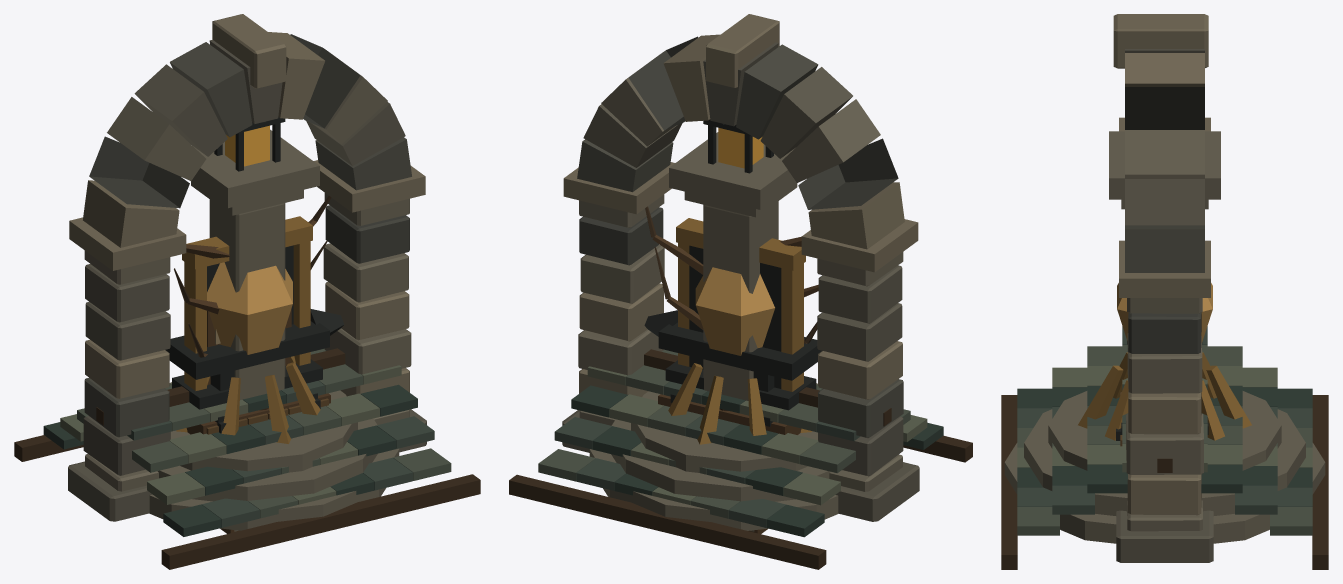
Rendered from waystation-kit.glb.
The picture shows the model from 3 angles, left to right: view 1: azimuth 30°, elevation 25°; view 2: azimuth 150°, elevation 25°; view 3: azimuth 270°, elevation 25°; orthographic projection. The views are drawn at different scales.
Parts seen in each view (by area): view 1: arch, canopy, waystone, pillar, anvil, mirror, lamp, tree, chest; view 2: arch, canopy, waystone, pillar, mirror, anvil, lamp, tree, chest; view 3: arch, canopy, waystone, pillar.
Part boxes in pixels (box(x1,y1,x2,y2)): arch: box(68, 14, 426, 521); canopy: box(14, 348, 480, 569); waystone: box(149, 262, 399, 530); pillar: box(191, 129, 319, 399); anvil: box(165, 309, 344, 410); mirror: box(182, 216, 312, 390); lamp: box(214, 117, 285, 171); tree: box(174, 196, 331, 357); chest: box(186, 393, 330, 434); arch: box(562, 14, 919, 521); canopy: box(509, 349, 972, 569); waystone: box(589, 267, 838, 530); pillar: box(669, 132, 797, 400); mirror: box(676, 218, 805, 391); anvil: box(644, 310, 822, 410); lamp: box(703, 119, 773, 173); tree: box(645, 206, 818, 343); chest: box(658, 394, 801, 434); arch: box(1113, 14, 1213, 562); canopy: box(1001, 326, 1328, 569); waystone: box(1004, 283, 1325, 543); pillar: box(1109, 131, 1220, 209).
Bounding box in the file's own units: 3.98 × 5.74 × 3.37.
